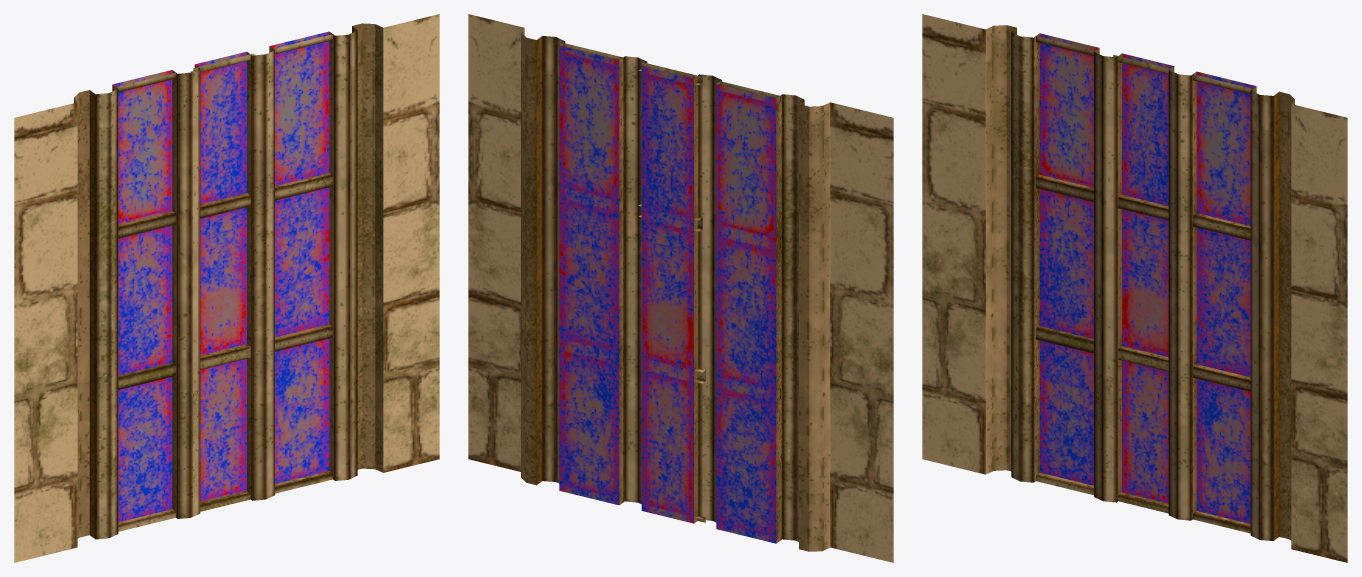
Rendered from SM_Ventanal.fbx.
The picture shows the model from 3 angles, left to right: view 1: azimuth 30°, elevation 25°; view 2: azimuth 150°, elevation 25°; view 3: azimuth 330°, elevation 25°; orthographic projection.
Parts seen in each view (by area): view 1: SM_Ventanal; view 2: SM_Ventanal; view 3: SM_Ventanal.
Part boxes in pixels (left/top/right/bottom): SM_Ventanal: left=14, top=14, right=439, bottom=562; SM_Ventanal: left=468, top=14, right=893, bottom=562; SM_Ventanal: left=922, top=14, right=1347, bottom=562.
Size of the model in its own units: 300 by 300 by 11.8.
